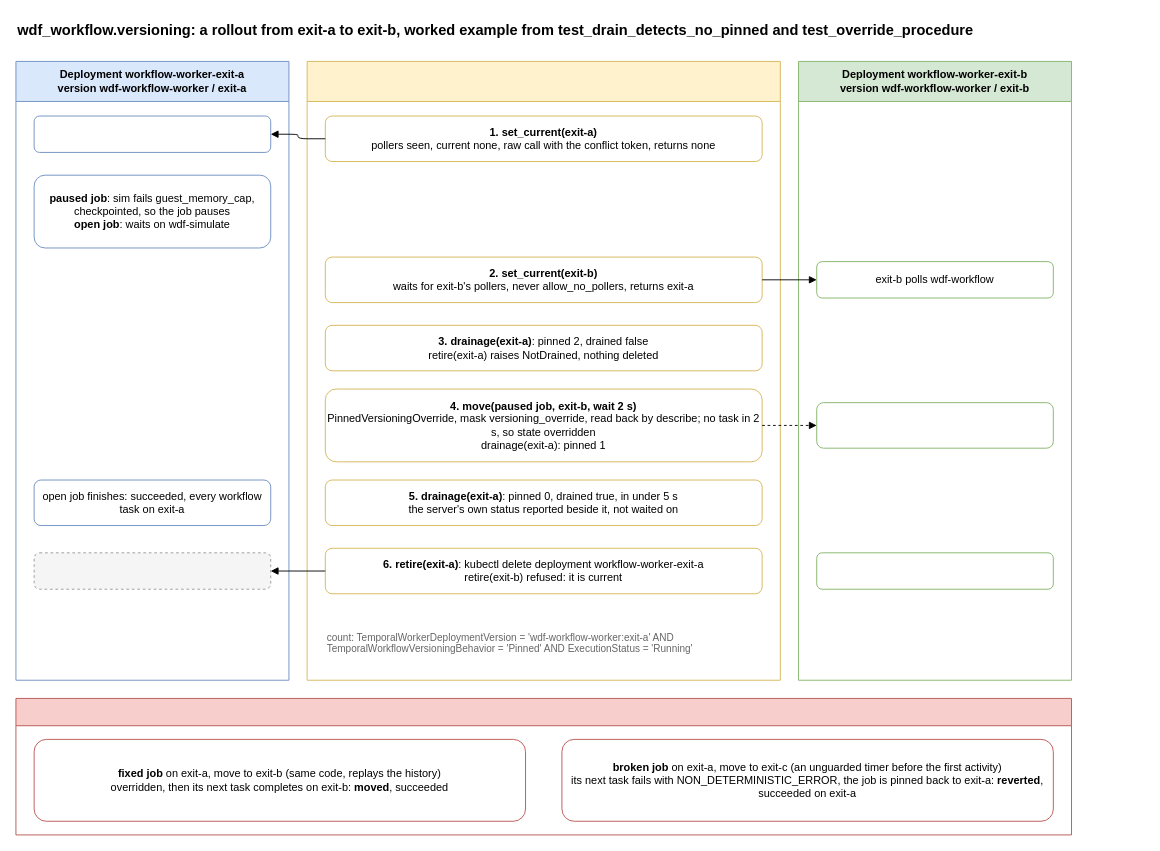
This 1160x851 diagram has some shape labels left out. The shapes that lost their labels are listed below. From the top down, each one's box as (x1, y1, x2, y2) in pixels, then its label:
(33, 115, 271, 152): exit-a polls wdf-workflow
(306, 61, 780, 680): wdf_workflow.versioning, run by the rollout
(816, 402, 1053, 448): paused job pinned here, runs on exit-b at its next task
(33, 552, 271, 589): deleted
(816, 552, 1053, 589): current, pinned 1
(15, 698, 1072, 835): Override procedure, test_override_procedure
